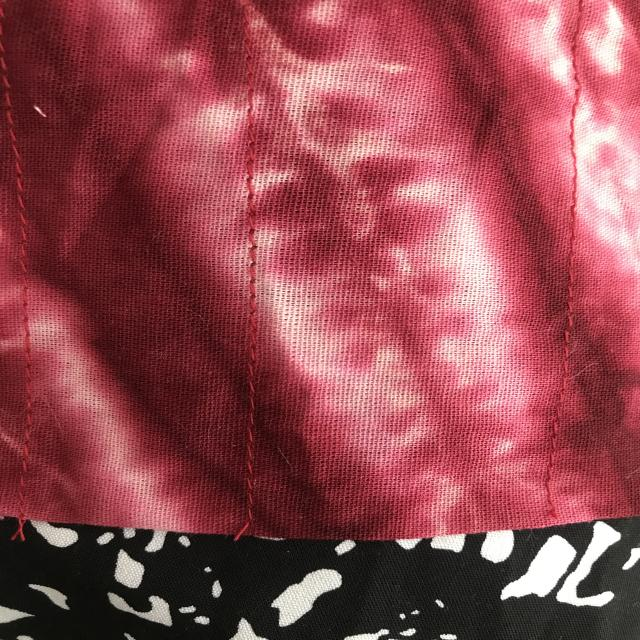good: (241, 212, 270, 302), (244, 392, 263, 474)
